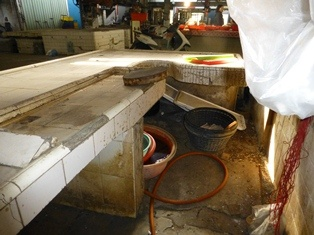plastic_bag: (224, 1, 313, 117)
